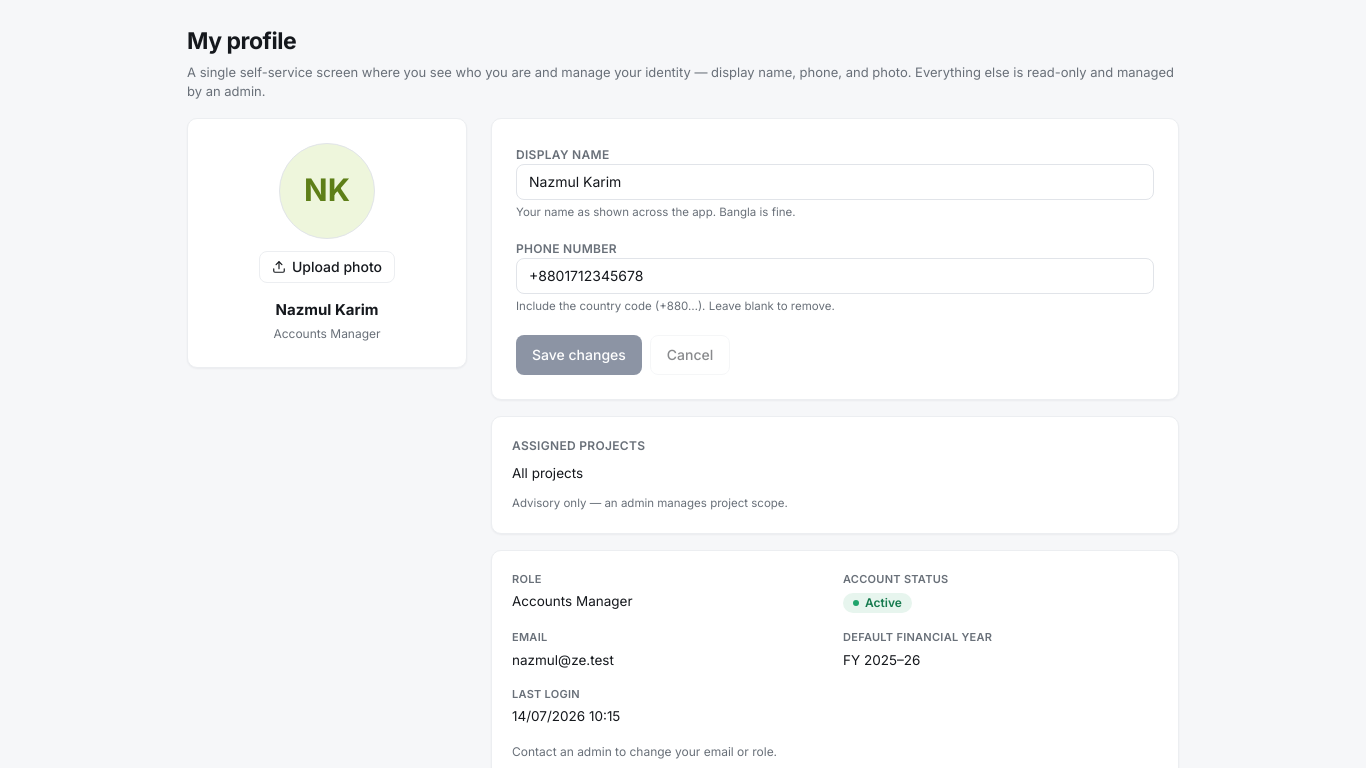
Test: AccountProfileScreen — name/phone edit (FR-AUD-032/-034/-037) › posts { name, version } on save and shows the success toast
Replace the text in the field with test id "profile-name-input" with "Nazmul K." at (835, 182), box [516, 164, 1154, 200]
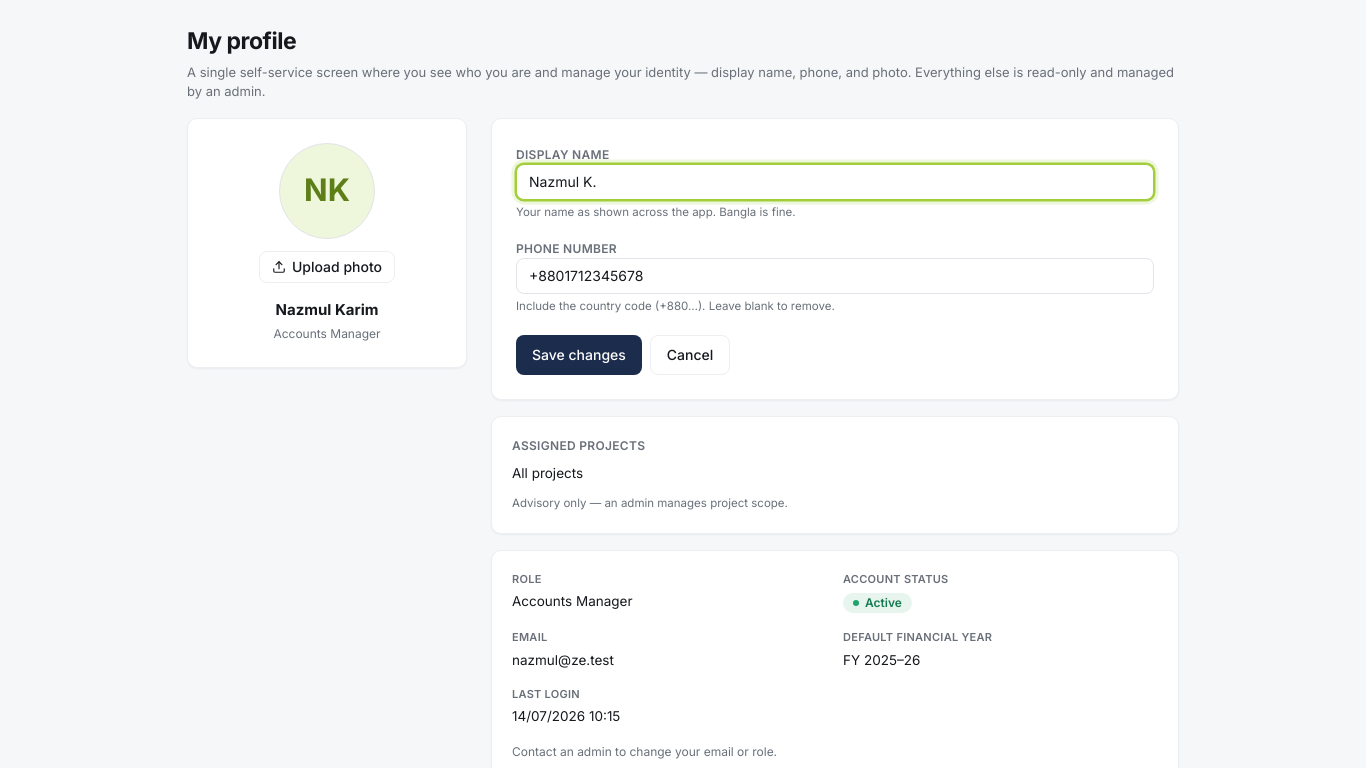
Click the button with test id "profile-save" at (579, 355), box [516, 335, 642, 375]
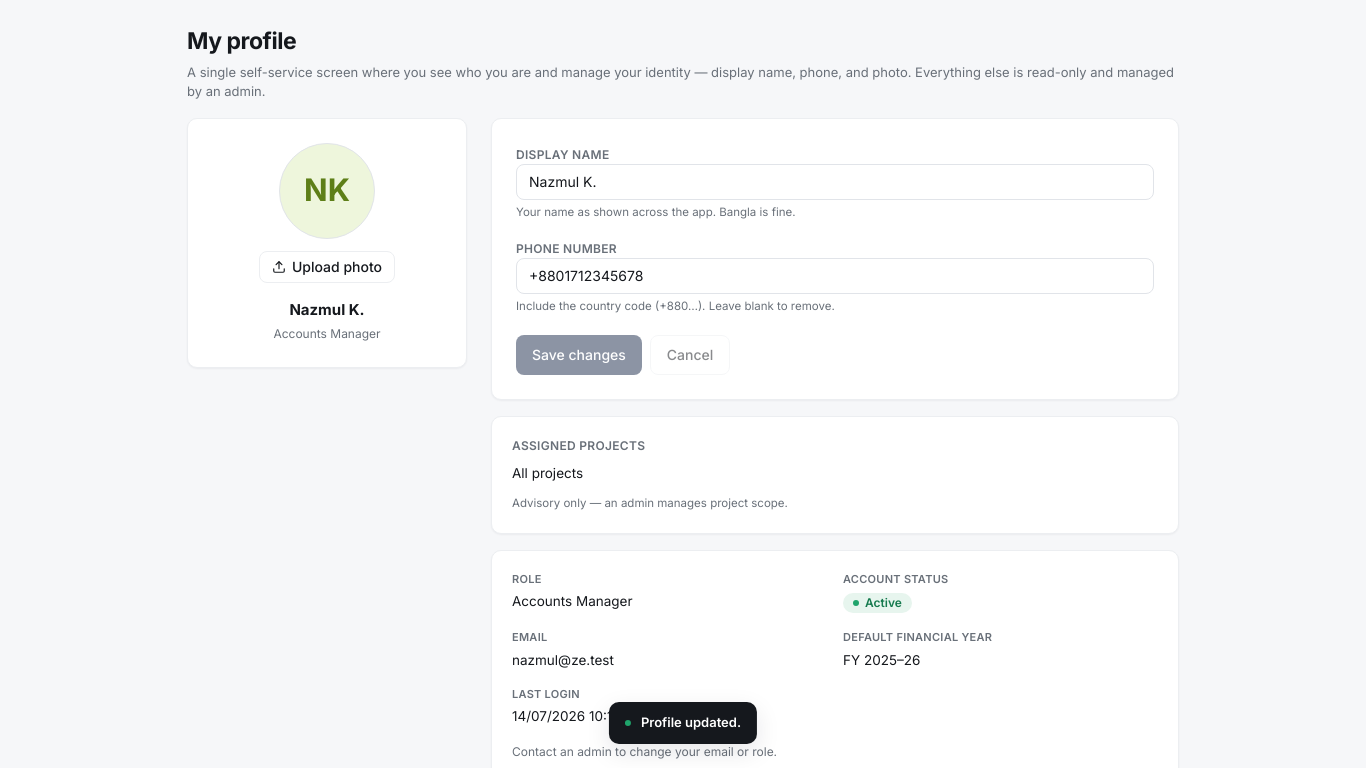
Now the text "Profile updated." is shown, box [641, 713, 741, 733]
